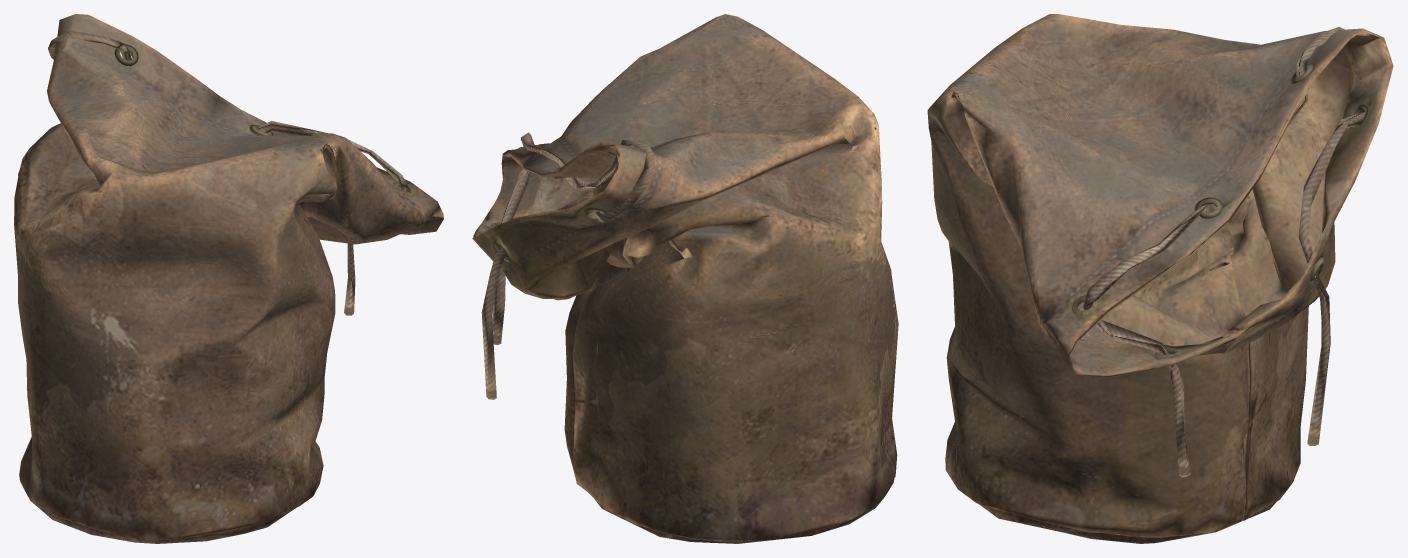
File: interactive_container_bag_02.fbx
3 renders of one model, left to right at view 1: azimuth 30°, elevation 25°; view 2: azimuth 150°, elevation 25°; view 3: azimuth 270°, elevation 25°, orthographic. The views are drawn at different scales.
Parts seen in each view (by area): view 1: interactive_container_bag_02; view 2: interactive_container_bag_02; view 3: interactive_container_bag_02.
Part boxes in pixels (x1,y1,x2,y2): interactive_container_bag_02: (14, 14, 443, 543); interactive_container_bag_02: (472, 14, 898, 543); interactive_container_bag_02: (927, 14, 1393, 543).
Bounding box in the file's own units: 71.2 × 69.23 × 64.22.
